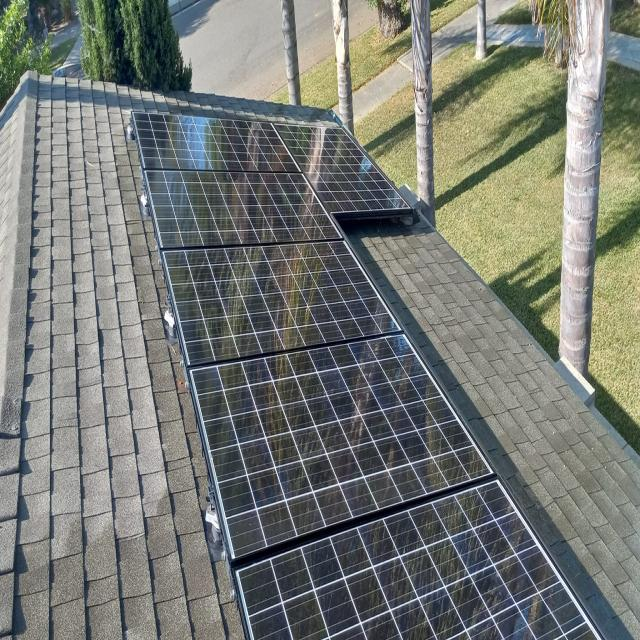clean-solar-panel: (131, 108, 598, 639)
